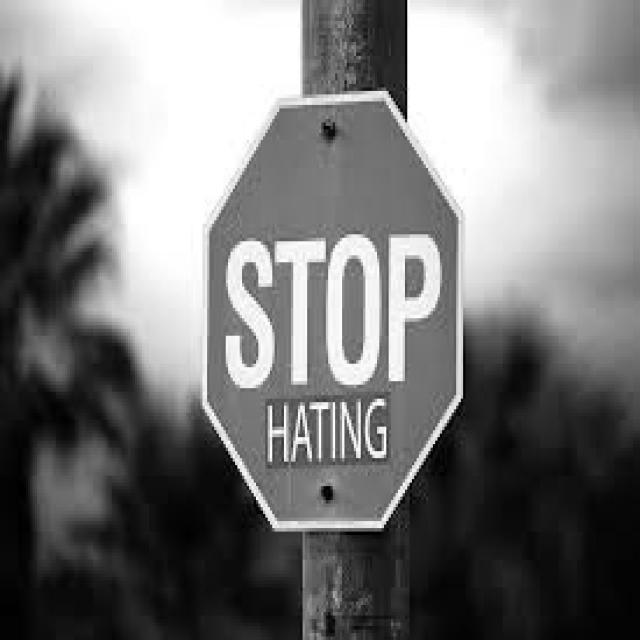stop sign: (202, 100, 462, 530)
